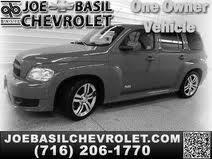car: (1, 22, 212, 124)
